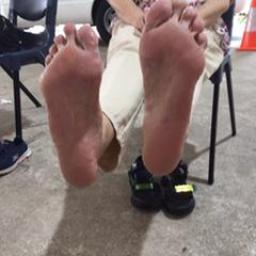Plantar View -Both Feet-: (36, 3, 216, 192)
